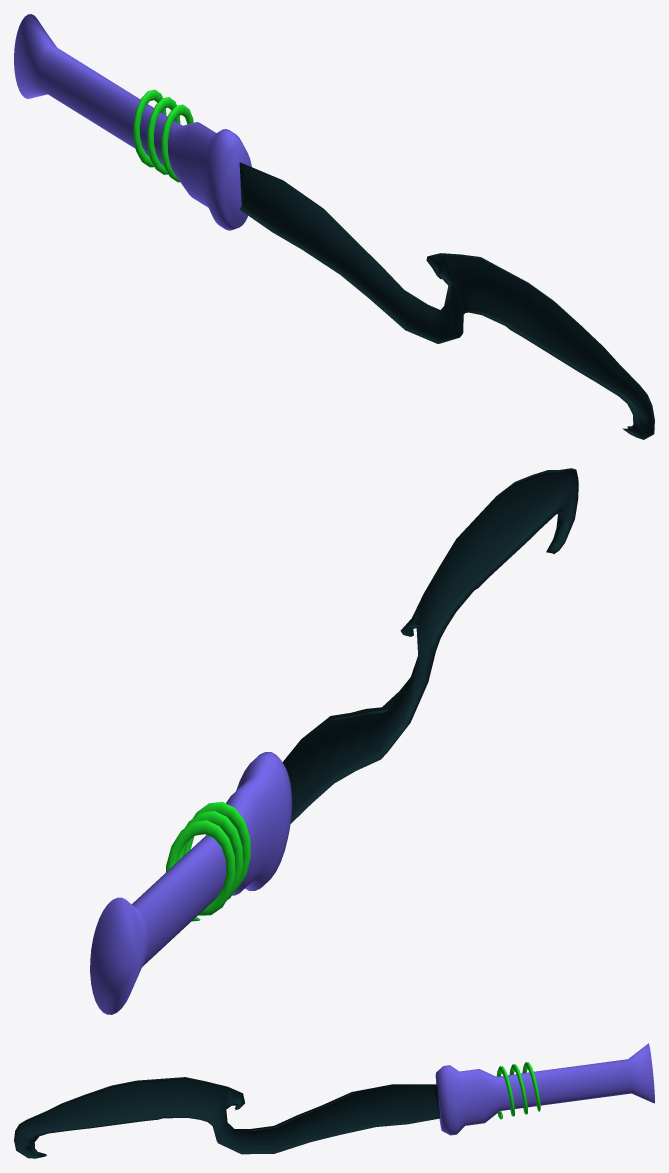
File: CharacterFantasyWomanCat (1).fbx
3 views of the same model, one above another, from view 1: azimuth 30°, elevation 25°; view 2: azimuth 150°, elevation 25°; view 3: azimuth 270°, elevation 25° (orthographic). The views are drawn at different scales.
Parts seen in each view (by area): view 1: Weapon; view 2: Weapon; view 3: Weapon.
Part boxes in pixels (x1,y1,x2,y2): Weapon: (14, 14, 654, 439); Weapon: (90, 468, 578, 1014); Weapon: (14, 1043, 654, 1158).
Bounding box in the file's own units: 10.27 × 8.02 × 56.72.
